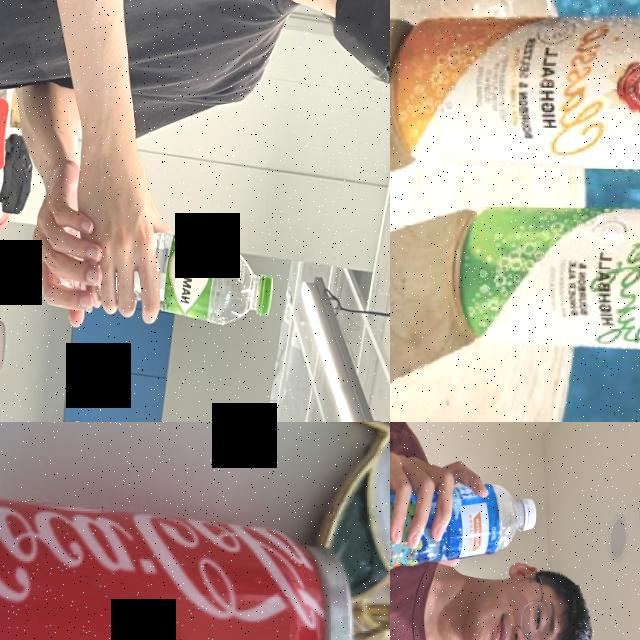bottle: (58, 226, 274, 327), (390, 480, 539, 575)
can: (0, 489, 358, 640), (390, 4, 640, 178), (450, 197, 640, 355)
